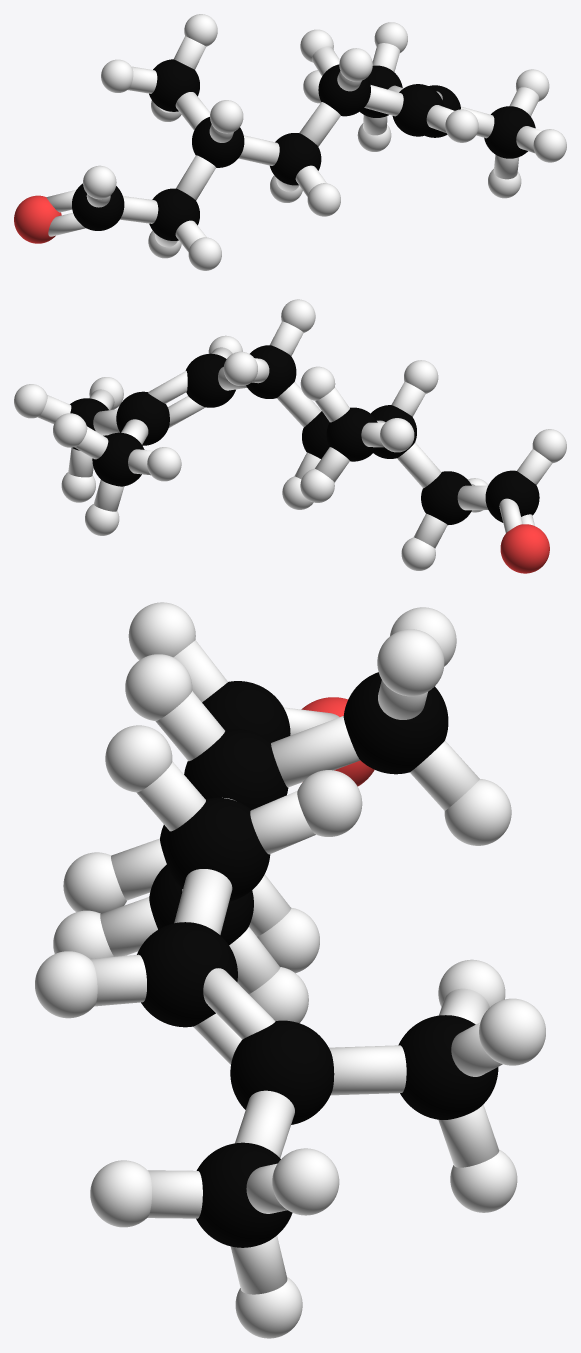
3 renders of one model, top to bottom at view 1: azimuth 30°, elevation 25°; view 2: azimuth 150°, elevation 25°; view 3: azimuth 270°, elevation 25°, orthographic. The views are drawn at different scales.
Parts seen in each view (by area): view 1: molecule; view 2: molecule; view 3: molecule.
Part boxes in pixels (bbox=[...]): molecule: bbox=[14, 14, 566, 270]; molecule: bbox=[14, 299, 566, 573]; molecule: bbox=[35, 602, 545, 1338].
Size of the model in its own units: 10.8 by 4.35 by 4.57.
